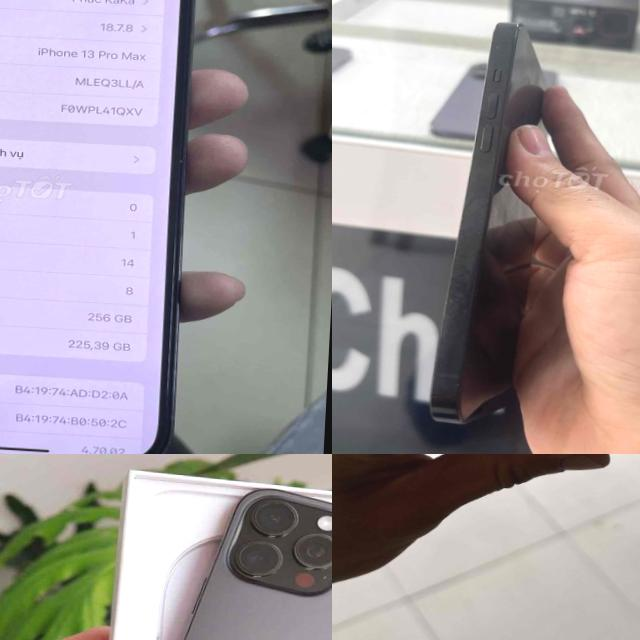gen_12_13: (0, 0, 206, 454)
gen_14: (419, 7, 576, 436)
gen_16: (124, 478, 332, 640)
scratch: (429, 258, 505, 357), (490, 28, 507, 61)
